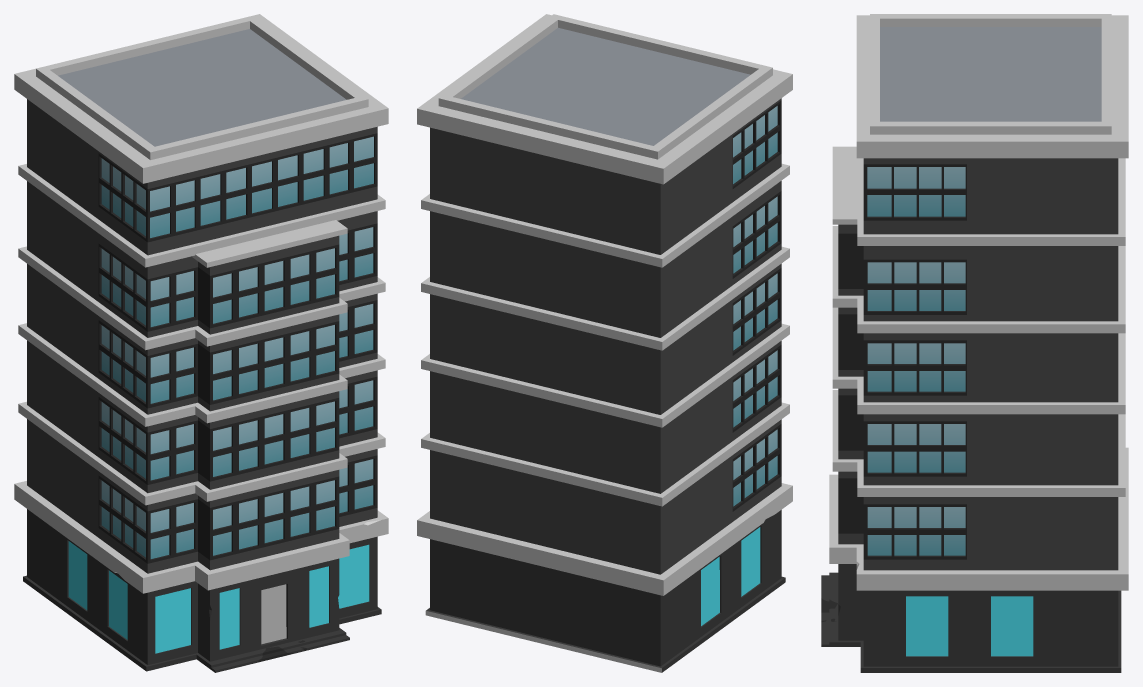
File: SM_Buildings_Office_10.fbx
3 views of the same model, side by side, from view 1: azimuth 30°, elevation 25°; view 2: azimuth 150°, elevation 25°; view 3: azimuth 270°, elevation 25° (orthographic). The views are drawn at different scales.
Parts seen in each view (by area): view 1: SM_Buildings_Office_10; view 2: SM_Buildings_Office_10; view 3: SM_Buildings_Office_10.
Part boxes in pixels (left/top/right/bottom): SM_Buildings_Office_10: left=14, top=14, right=388, bottom=672; SM_Buildings_Office_10: left=417, top=14, right=792, bottom=672; SM_Buildings_Office_10: left=821, top=14, right=1128, bottom=672.
Size of the model in its own units: 10 by 20 by 10.27.
